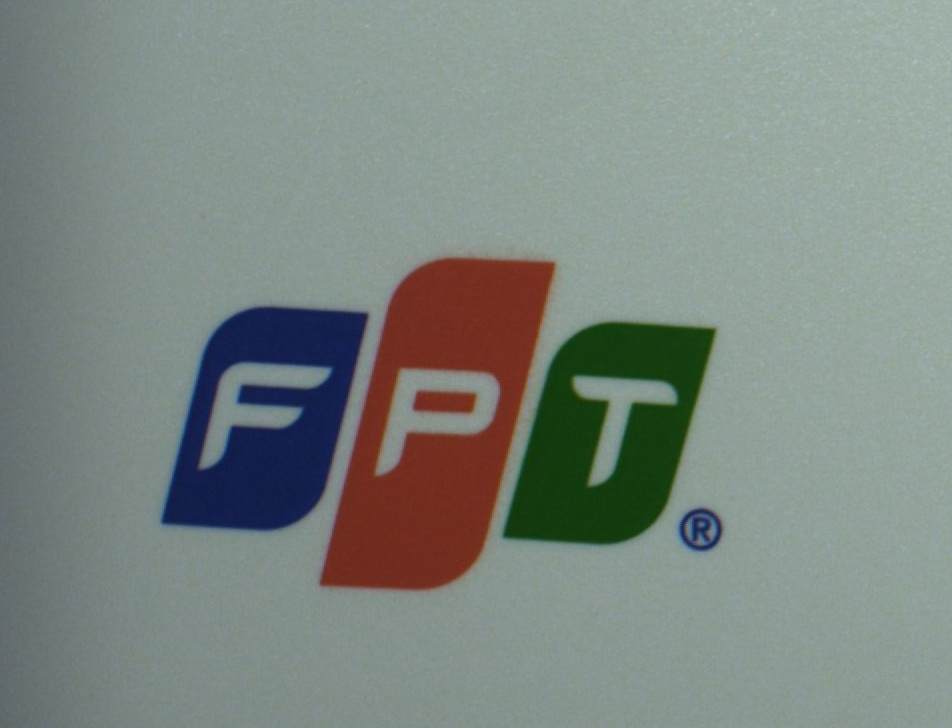BR_FPT: (137, 248, 726, 589)
